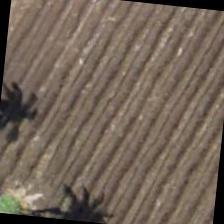Kelapa_Sawit: (0, 164, 58, 219)
